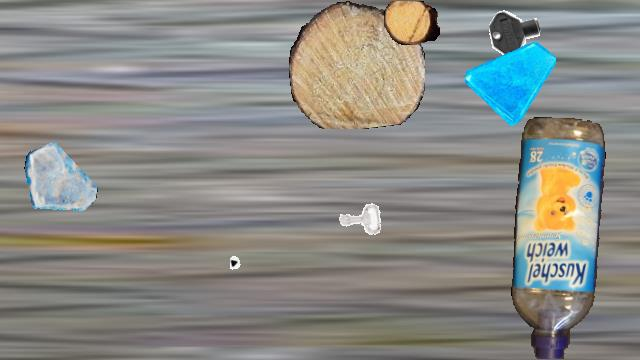glass: (465, 35, 555, 125), (24, 139, 98, 213)
metal: (230, 238, 292, 300), (485, 1, 547, 63), (333, 193, 385, 245)
plastic: (510, 117, 608, 359)
wood: (289, 1, 425, 129), (384, 1, 440, 45)
